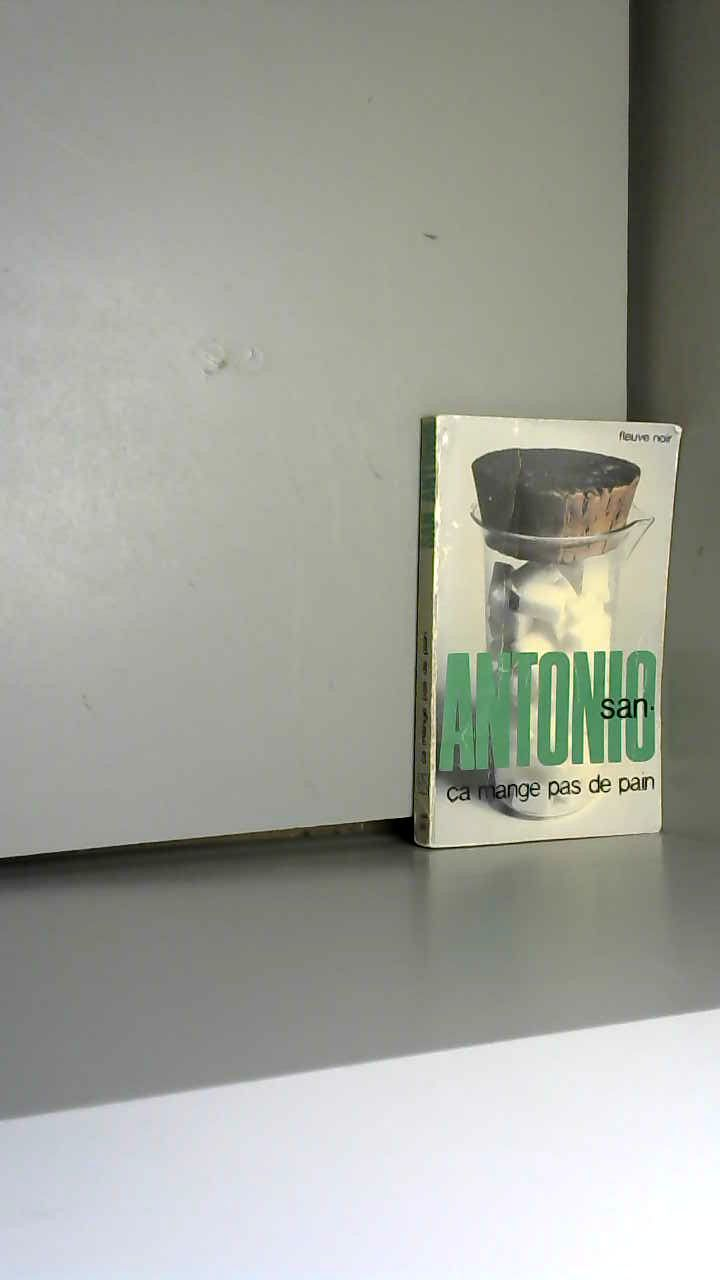book: (390, 380, 720, 907)
